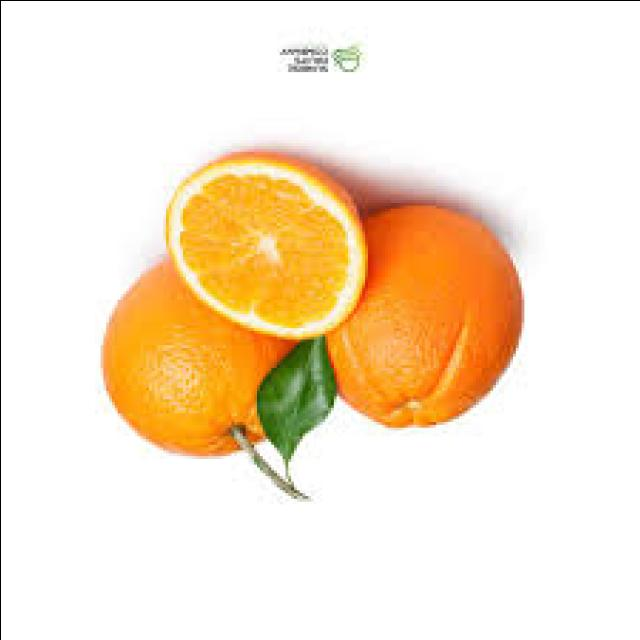orange: (316, 208, 528, 441)
